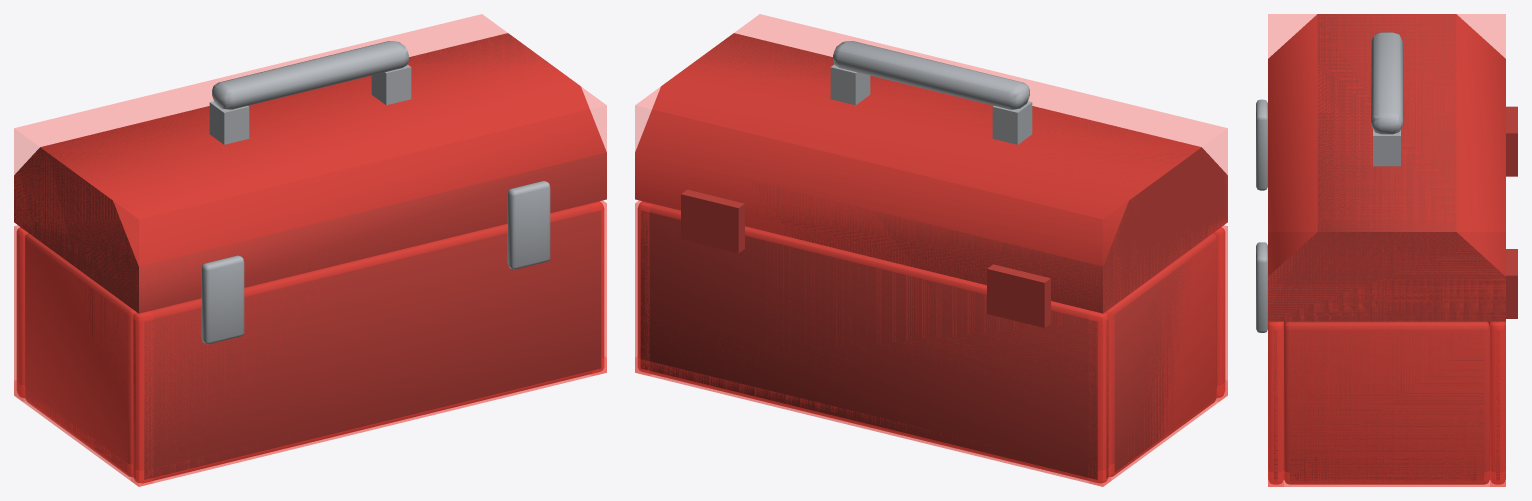
File: ToolboxT03.glb
3 renders of one model, left to right at view 1: azimuth 30°, elevation 25°; view 2: azimuth 150°, elevation 25°; view 3: azimuth 270°, elevation 25°, orthographic. The views are drawn at different scales.
Parts seen in each view (by area): view 1: Body_Red, Lid_Red, Col_Lid, Col_EndLeft, Col_Front, Lid_Steel, Body_Steel, Col_Floor, Col_Back, Col_EndRight; view 2: Body_Red, Lid_Red, Col_Lid, Col_EndLeft, Col_Back, Lid_Steel, Col_Floor, Col_EndRight, Col_Front; view 3: Lid_Red, Body_Red, Col_EndRight, Col_Lid, Lid_Steel, Col_Back, Col_Front, Body_Steel, Col_Floor.
Part boxes in pixels (x1,y1,x2,y2): Body_Red: (17,201,603,482); Lid_Red: (14,33,606,313); Col_Lid: (14,14,606,289); Col_EndLeft: (14,225,152,486); Col_Front: (131,201,606,486); Lid_Steel: (209,41,411,144); Body_Steel: (201,181,550,344); Col_Floor: (14,358,606,486); Col_Back: (14,225,27,400); Col_EndRight: (590,200,606,375); Body_Red: (638,189,1224,482); Lid_Red: (635,33,1227,313); Col_Lid: (635,14,1227,311); Col_EndLeft: (1089,225,1227,486); Col_Back: (635,201,1110,486); Lid_Steel: (830,41,1032,144); Col_Floor: (635,358,1219,486); Col_EndRight: (635,200,651,375); Col_Front: (1214,225,1227,400); Lid_Red: (1268,14,1505,321); Body_Red: (1268,106,1517,484); Col_EndRight: (1268,322,1505,486); Col_Lid: (1268,14,1505,320); Lid_Steel: (1371,32,1402,166); Col_Back: (1490,322,1505,486); Col_Front: (1268,322,1283,486); Body_Steel: (1256,99,1267,332); Col_Floor: (1268,471,1505,486).
Size of the model in its own units: 2.6 by 1.7 by 1.32.
